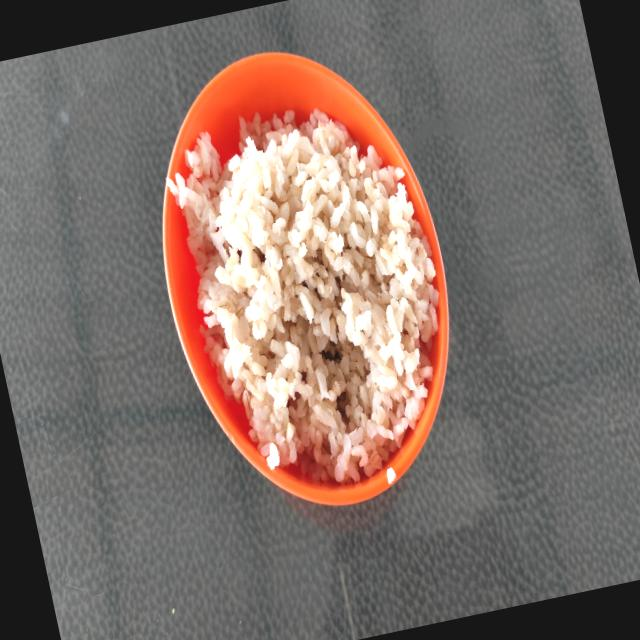brown-rice: (166, 109, 439, 483)
